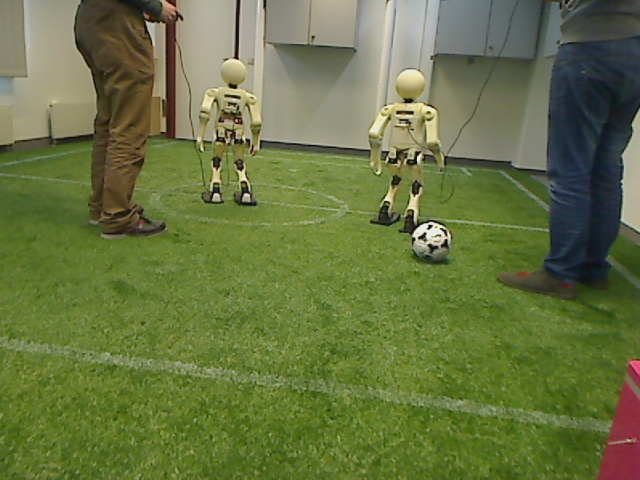ball: (407, 218, 455, 266)
robot: (363, 70, 436, 234), (197, 55, 263, 211)
